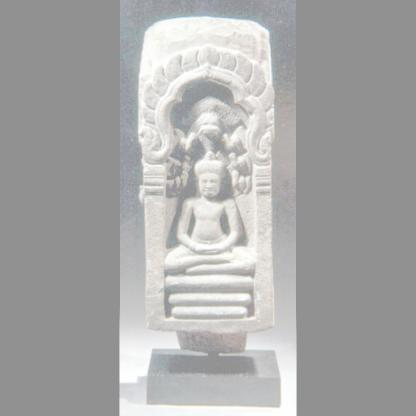buddha-sitting: (170, 150, 256, 317)
